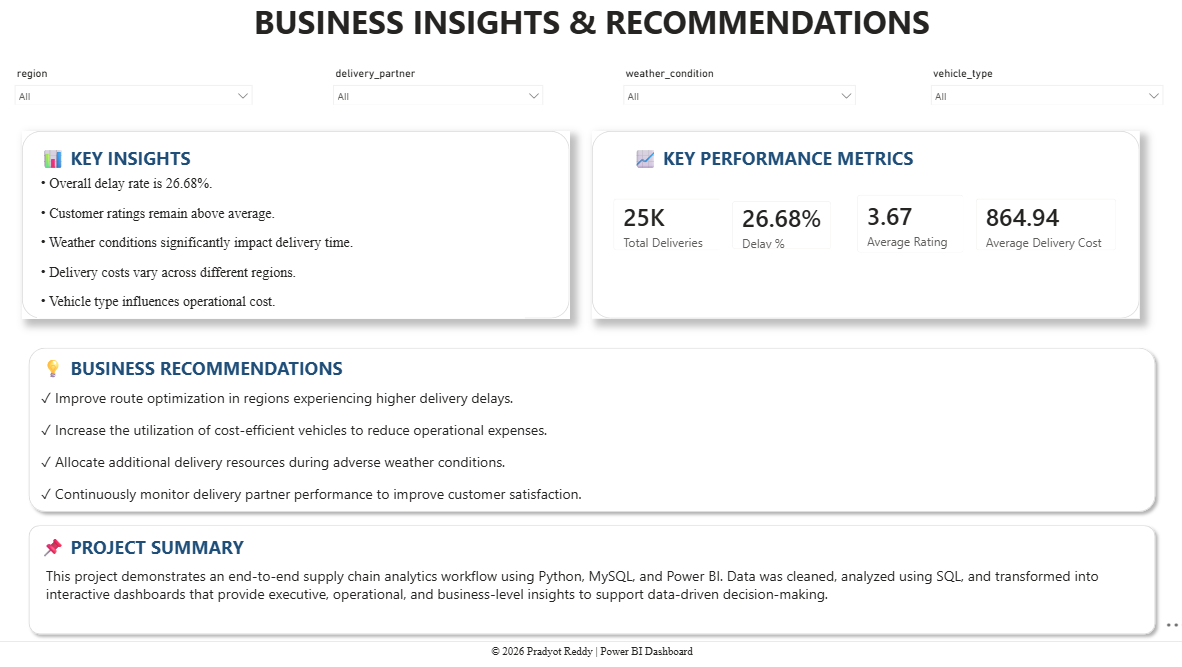

This screenshot's page, from the dashboard's own definition file:
{"tool":"powerbi","page":{"name":"Business Insights & Recommendations","canvas":[1600,900],"ordinal":2},"visuals":[{"type":"textbox","box":[40,0,1520,75],"z":0},{"type":"slicer","fields":{"Values":["Deliveries.region"]},"box":[20,90,352,55],"z":1000},{"type":"slicer","fields":{"Values":["Deliveries.delivery_partner"]},"box":[430,90,330,55],"z":2000},{"type":"slicer","fields":{"Values":["Deliveries.vehicle_type"]},"box":[1241.7,90,330,55],"z":3000},{"type":"slicer","fields":{"Values":["Deliveries.weather_condition"]},"box":[831.7,90,330,55],"z":4000},{"type":"shape","box":[40,180,730,250],"z":5000},{"type":"textbox","box":[0,860,1600,40],"z":6000},{"type":"textbox","box":[60,195,300,75],"z":7000},{"type":"textbox","box":[60,235,650,195],"z":8000},{"type":"shape","box":[800,180,730,250],"z":9000},{"type":"textbox","box":[850,195,413.3,53.3],"z":10000},{"type":"cardVisual","fields":{"Data":["Deliveries.Total Deliveries"]},"box":[811.7,253.3,185,103.3],"z":11000},{"type":"cardVisual","fields":{"Data":["Deliveries.Delay %"]},"box":[970,256.7,166.7,98.3],"z":12000},{"type":"cardVisual","fields":{"Data":["Deliveries.Average Rating"]},"box":[1136.7,248.3,176.7,111.7],"z":13000},{"type":"cardVisual","fields":{"Data":["Deliveries.Average Delivery Cost"]},"box":[1295,253.3,221.7,103.3],"z":14000},{"type":"shape","box":[40,460,1520,236.7],"z":15000},{"type":"textbox","box":[60,475,496.7,43.3],"z":16000},{"type":"textbox","box":[60,518.3,1450,163.3],"z":17000},{"type":"shape","box":[40,696.7,1520,163.3],"z":19000},{"type":"textbox","box":[60,713.3,350,41.7],"z":20000},{"type":"textbox","box":[66.7,755,1450,65],"z":21000}]}

Visuals, with their boxes in screenshot pixels (x1, y1, x2, y2), scaled from the page's 1600x900 canvas onto the 1182x667 screenshot:
textbox: region(30, 0, 1152, 56)
slicer - Deliveries.region: region(15, 67, 275, 107)
slicer - Deliveries.delivery_partner: region(318, 67, 561, 107)
slicer - Deliveries.vehicle_type: region(917, 67, 1161, 107)
slicer - Deliveries.weather_condition: region(614, 67, 858, 107)
shape: region(30, 133, 569, 319)
textbox: region(0, 637, 1181, 666)
textbox: region(44, 145, 266, 200)
textbox: region(44, 174, 525, 319)
shape: region(591, 133, 1130, 319)
textbox: region(628, 145, 933, 184)
cardVisual - Deliveries.Total Deliveries: region(600, 188, 736, 264)
cardVisual - Deliveries.Delay %: region(717, 190, 840, 263)
cardVisual - Deliveries.Average Rating: region(840, 184, 970, 267)
cardVisual - Deliveries.Average Delivery Cost: region(957, 188, 1120, 264)
shape: region(30, 341, 1152, 516)
textbox: region(44, 352, 411, 384)
textbox: region(44, 384, 1116, 505)
shape: region(30, 516, 1152, 637)
textbox: region(44, 529, 303, 560)
textbox: region(49, 560, 1120, 608)
